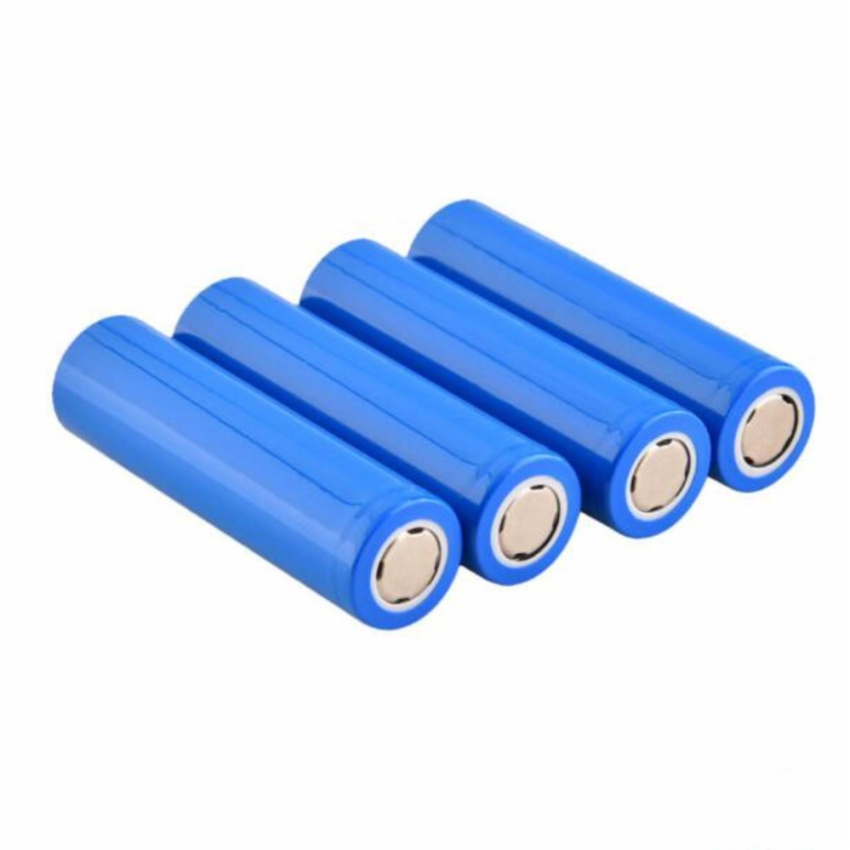Battery: (47, 310, 464, 634), (172, 273, 584, 589), (295, 234, 715, 542), (403, 195, 817, 496)
